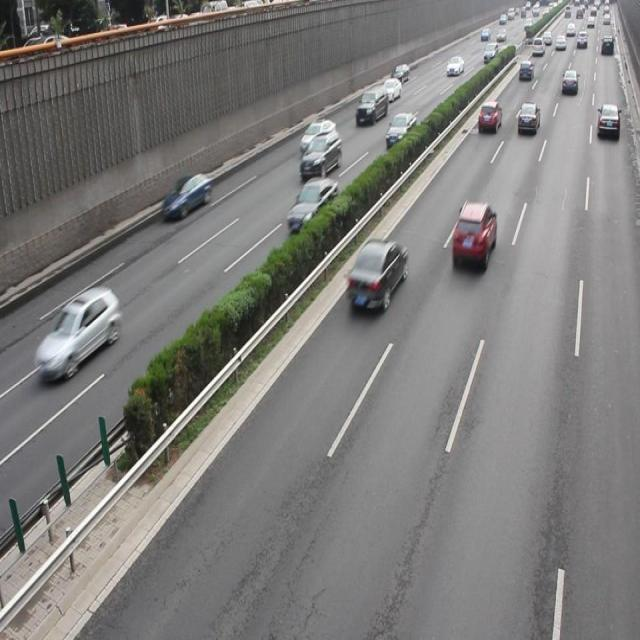car: (36, 285, 121, 380), (348, 237, 406, 311), (450, 200, 496, 268), (286, 177, 340, 234), (161, 170, 211, 220), (300, 131, 341, 177), (300, 119, 335, 155), (384, 112, 416, 148), (476, 101, 501, 135), (596, 103, 619, 139), (516, 101, 538, 134)
truck: (355, 87, 387, 125)
